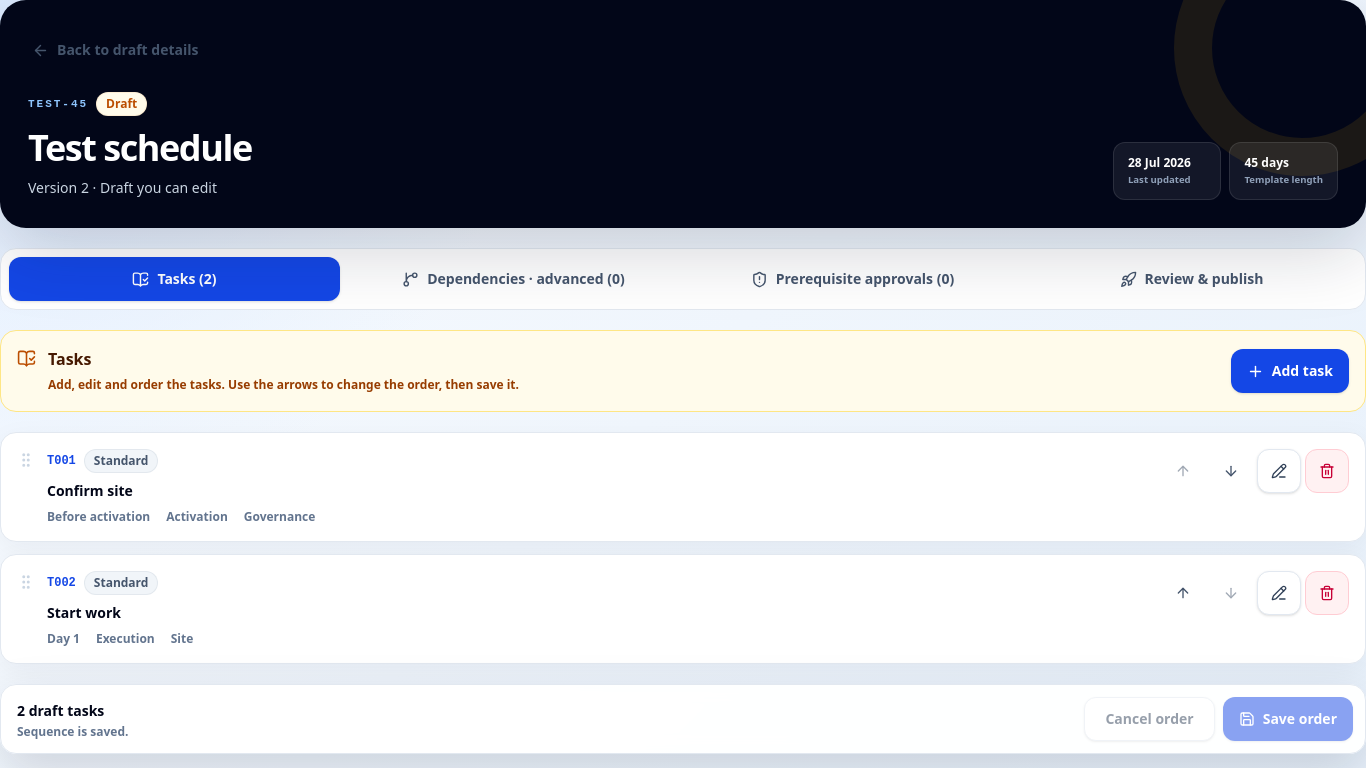
draft task authoring › shows stale-revision feedback and keeps the editor open
Expected: the element with test id "draft-task-T002" is shown, [0, 554, 1365, 664]
Click the button named "Edit T002". click: (1279, 593)
box: [1257, 571, 1301, 615]
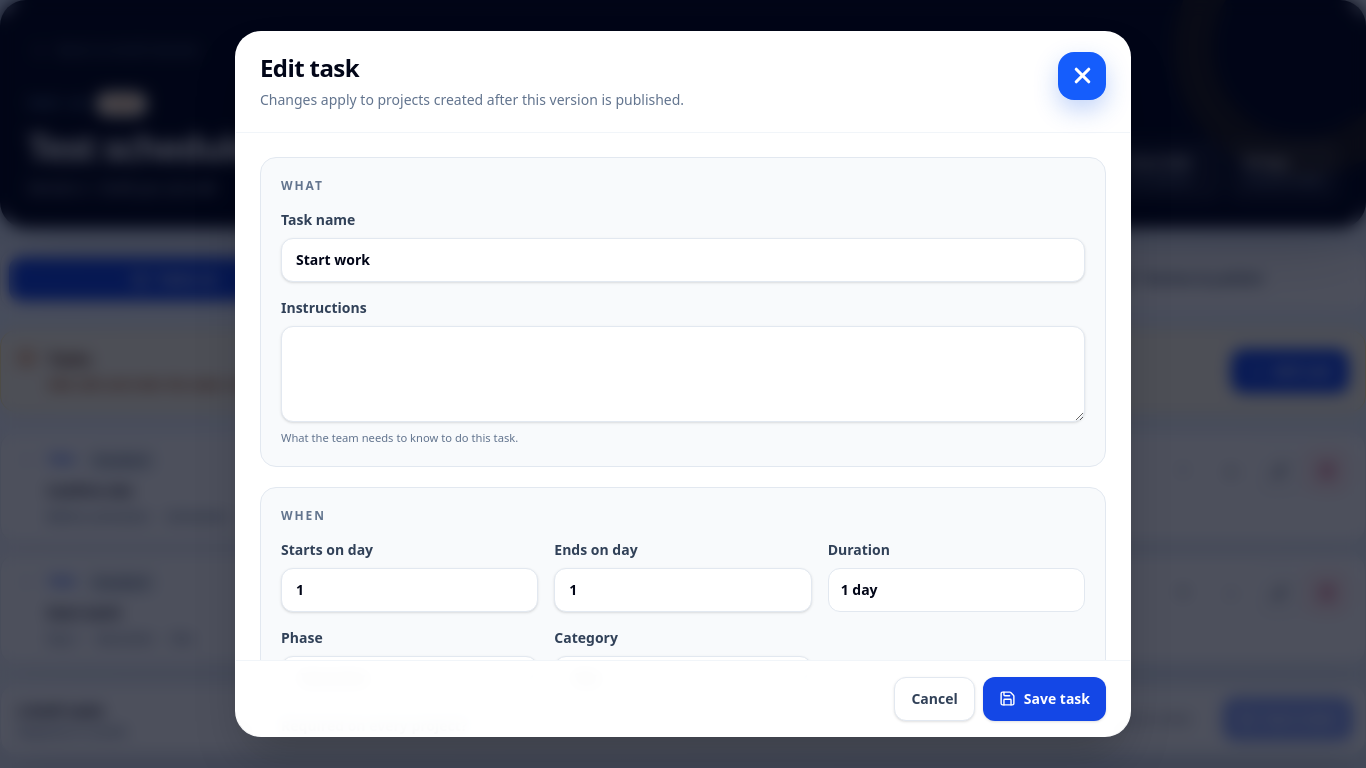
Replace the text in the field labelled "Task name" with "Changed". click: (683, 260)
box: [281, 238, 1085, 282]
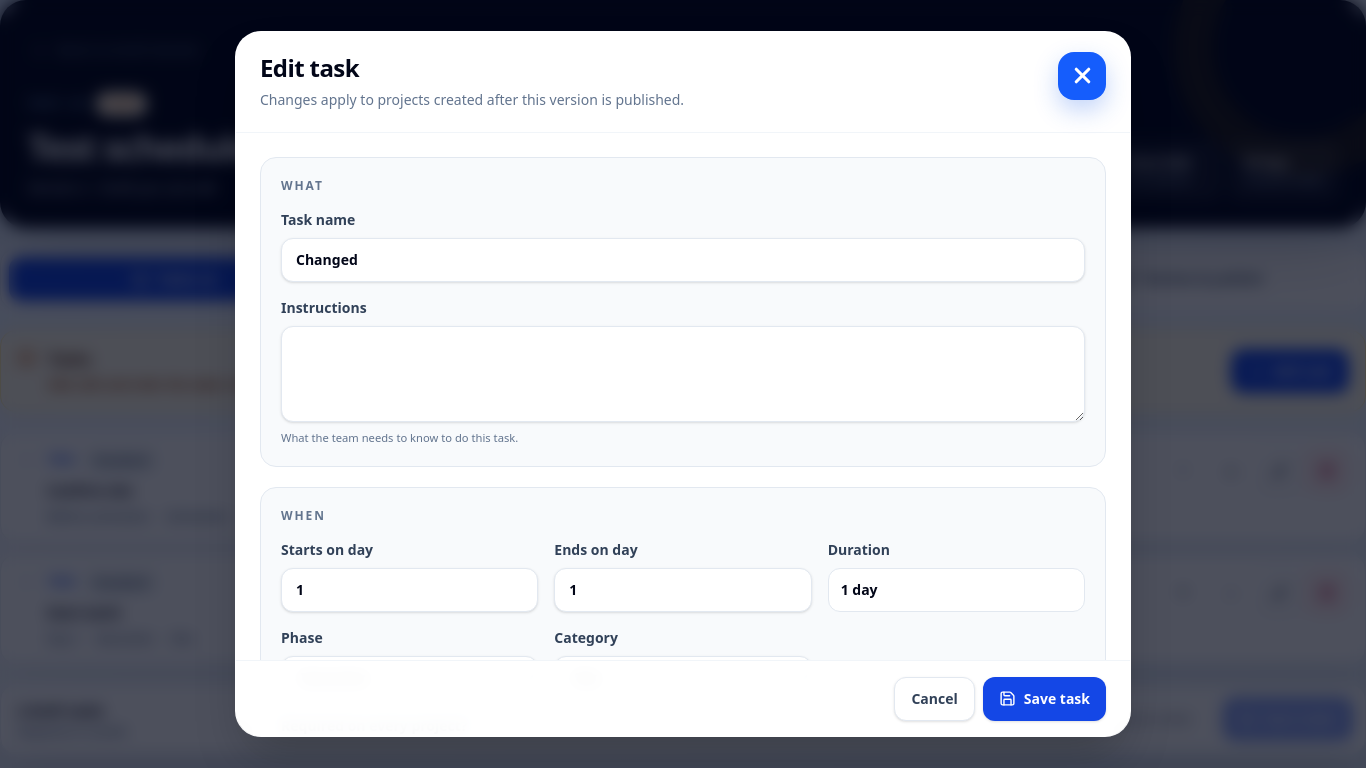
Click the button "Save task". click: (1044, 698)
box: [983, 676, 1106, 720]
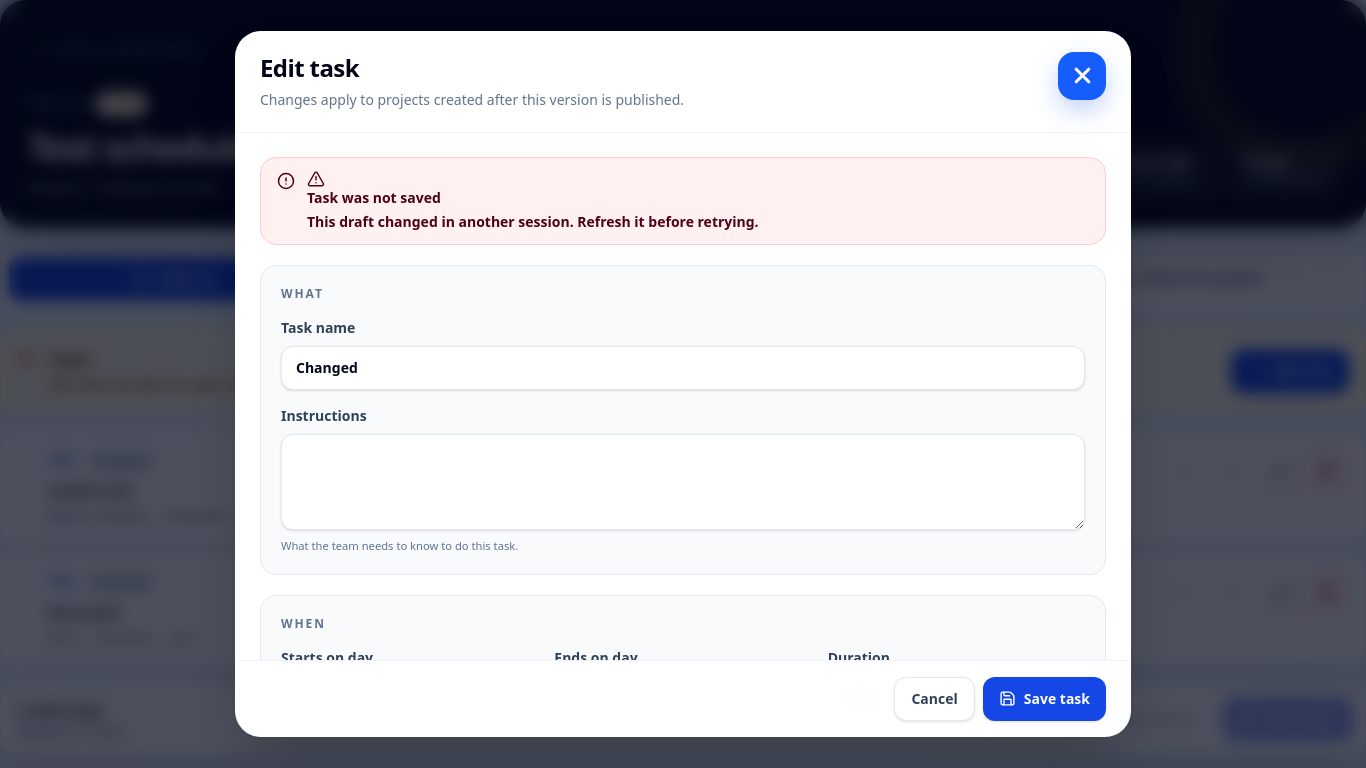
Expected: the dialog "Edit task" is shown
Expected: the text "changed in another session" is shown, [307, 212, 759, 231]
